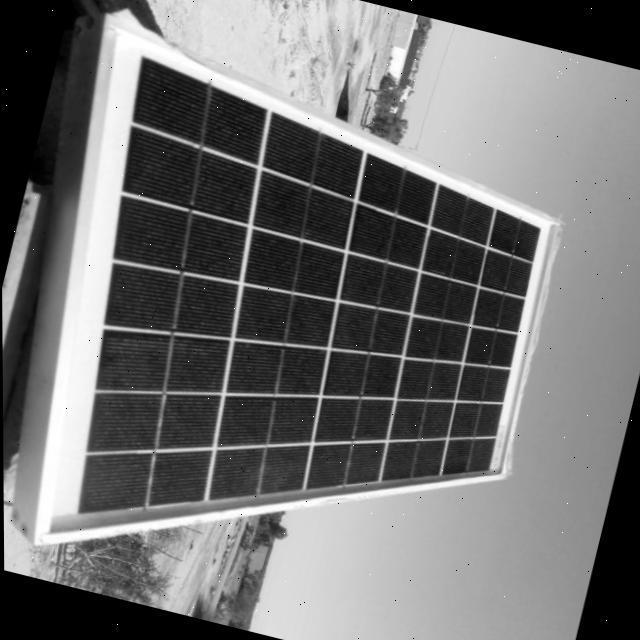Normal Solar Panel: (0, 20, 585, 640)
